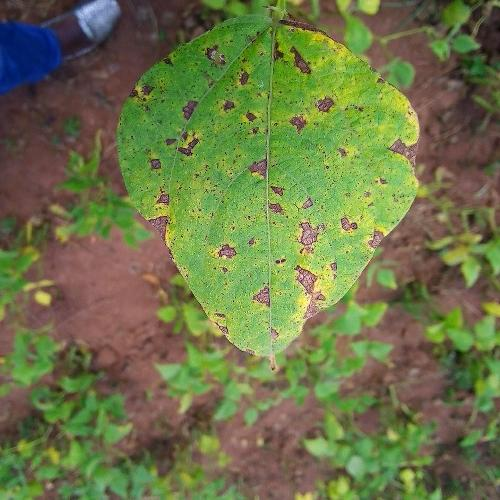hawar: (186, 30, 358, 124), (235, 129, 322, 263), (110, 120, 199, 228), (288, 265, 334, 318), (242, 286, 287, 320), (130, 73, 164, 114)
